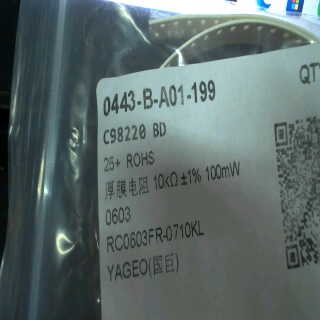10kR: (152, 170, 178, 193)
